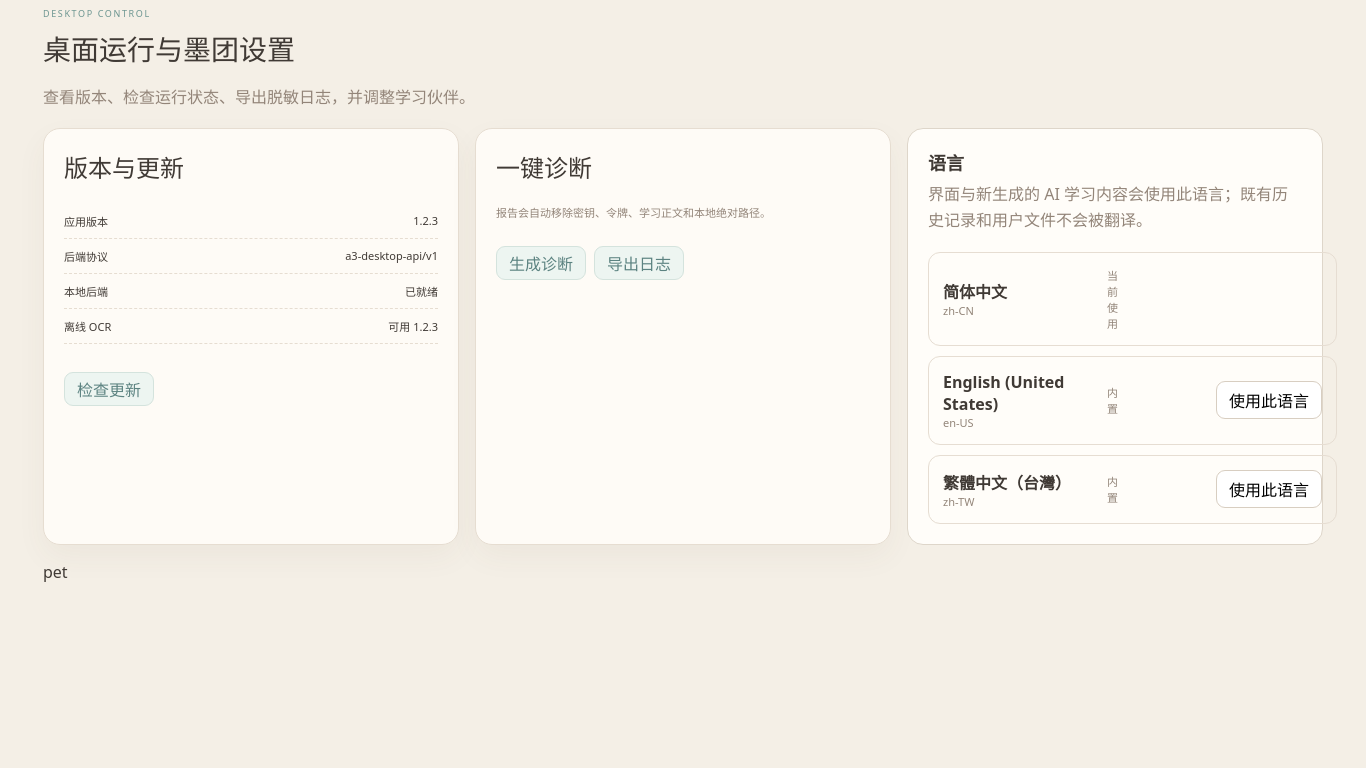
Test: shows three bundled languages and activates the selected locale immediately
What coordinates should you click on to do the following:
click the button with test id "language-activate-en-US"
I would click on:
 (1269, 400)
Its box is [1216,381,1322,419].
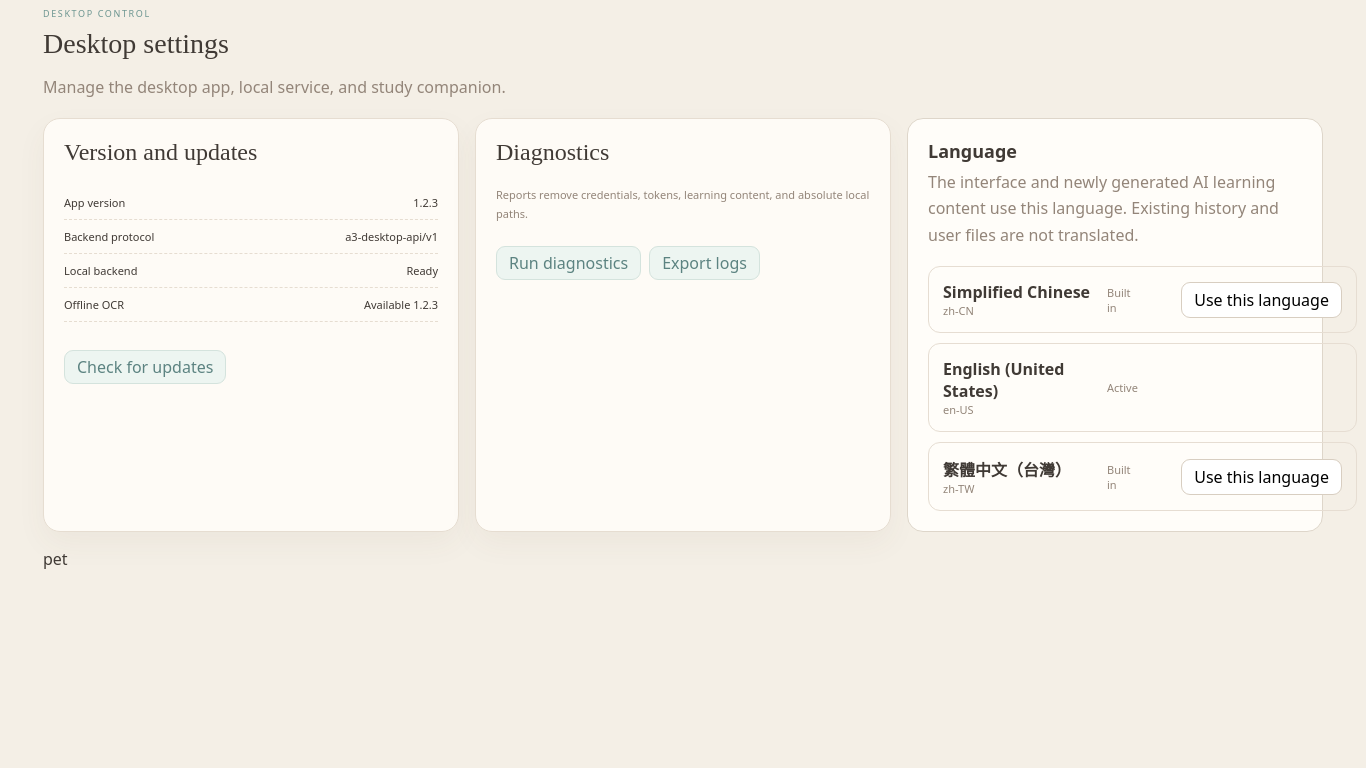
Expected: the text "en-US" is shown, [943,402,974,417]
Result: the text "Desktop settings" is shown at [43,28,229,59]
